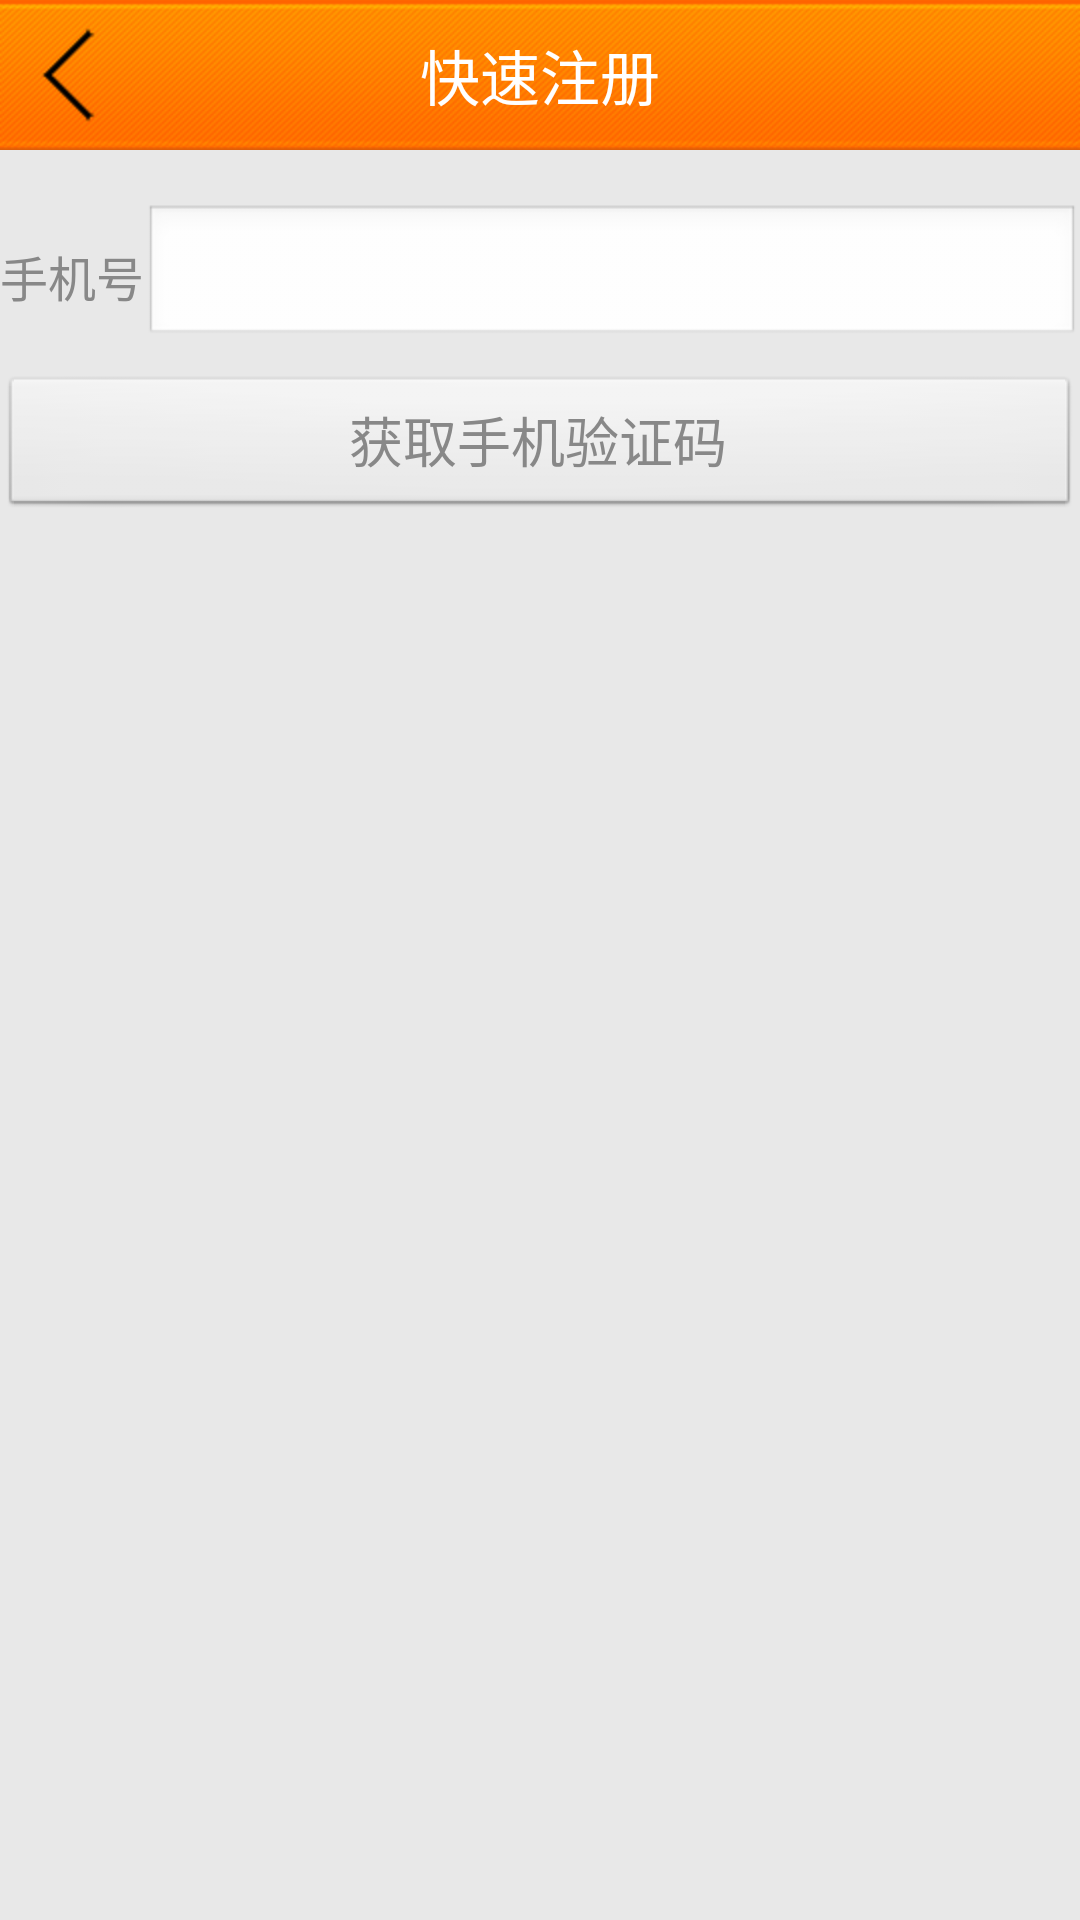

Screen size 1080 x 1920. Icon name, then its box in pixels as {"left": x1, "top": y1, "right": x2, "bottom": y2}:
back: {"left": 18, "top": 29, "right": 118, "bottom": 125}
